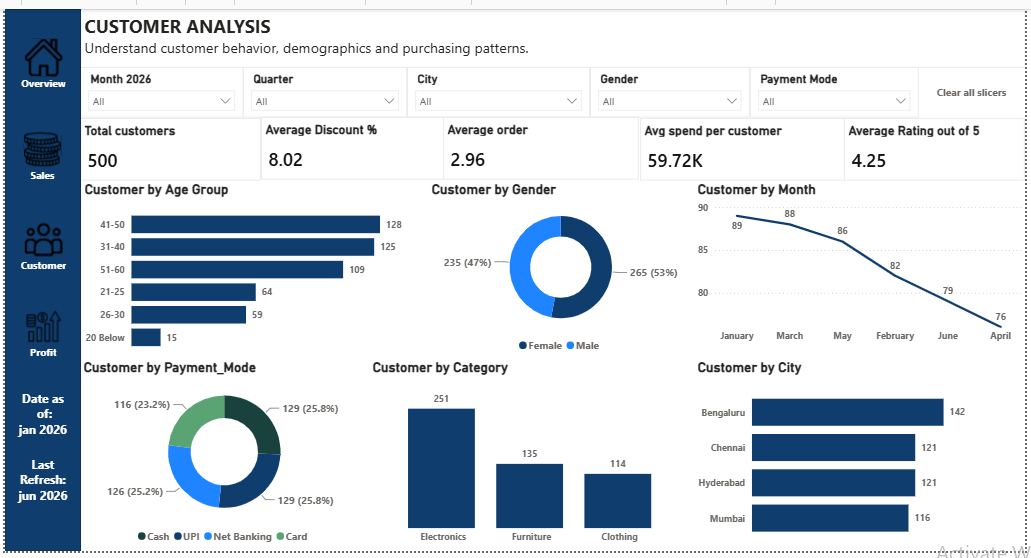

What the dashboard file says about the page in this screenshot:
{"tool":"powerbi","page":{"name":"Customer Analysis","canvas":[1355,720],"ordinal":2},"visuals":[{"type":"shape","box":[0,0,101,720],"z":0,"group":"g1"},{"type":"donutChart","title":"Customer by Gender","fields":{"Category":["SalesData.Gender"],"Y":["SalesData.Total customer"]},"box":[562,228.3,352.7,237.1],"z":0},{"type":"actionButton","box":[0,143.4,99.5,102.4],"z":1000,"group":"g1"},{"type":"clusteredBarChart","title":"Customer by Age Group","fields":{"Y":["SalesData.Total customer"],"Category":["SalesData.Age Group"]},"box":[101,228.3,433.2,237.1],"z":1000},{"type":"actionButton","box":[1.5,379,99.5,103.9],"z":2000,"group":"g1"},{"type":"clusteredBarChart","title":"Customer by City","fields":{"Category":["SalesData.City"],"Y":["SalesData.Total customer"]},"box":[914.6,465.4,440.5,254.6],"z":2000},{"type":"actionButton","box":[1.5,267.8,99.5,93.7],"z":3000,"group":"g1"},{"type":"donutChart","title":"Customer by Payment_Mode","fields":{"Y":["SalesData.Total customer"],"Category":["SalesData.Payment_Mode"]},"box":[99.5,465.4,383.4,254.6],"z":3000},{"type":"actionButton","box":[1.5,19,99.5,108.3],"z":4000,"group":"g1"},{"type":"clusteredColumnChart","title":"Customer by Category","fields":{"Category":["SalesData.Category"],"Y":["SalesData.Total customer"]},"box":[482.9,465.4,431.7,254.6],"z":4000},{"type":"lineChart","title":"Customer by Month","fields":{"Y":["SalesData.Total customer"],"Category":["SalesData.Month"]},"box":[914.6,228.3,440.5,223.9],"z":5000},{"type":"textbox","box":[1.5,500.5,98,87.8],"z":5000,"group":"g1"},{"type":"textbox","box":[99.5,0,1255.6,77.6],"z":6000},{"type":"textbox","box":[1.5,588.3,98,87.8],"z":6000,"group":"g1"},{"type":"slicer","fields":{"Values":["SalesData.Month"]},"box":[99.5,77.6,216.6,67.3],"z":7000},{"type":"slicer","fields":{"Values":["SalesData.Quarter"]},"box":[316.1,77.6,218,67.3],"z":8000},{"type":"slicer","fields":{"Values":["SalesData.City"]},"box":[534.1,77.6,242.9,67.3],"z":9000},{"type":"slicer","fields":{"Values":["SalesData.Gender"]},"box":[777.1,77.6,212.2,67.3],"z":10000},{"type":"slicer","fields":{"Values":["SalesData.Payment_Mode"]},"box":[989.3,77.6,223.9,67.3],"z":11000},{"type":"cardVisual","title":"Total customers","fields":{"Data":["SalesData.Total customer"]},"box":[99.5,144.9,240,83.4],"z":12000},{"type":"cardVisual","title":"Average Discount %","fields":{"Data":["SalesData.Avg discount"]},"box":[339.5,143.4,242.9,83.4],"z":13000},{"type":"cardVisual","title":"Average order","fields":{"Data":["SalesData.Avg Order"]},"box":[582.4,143.4,260.5,83.4],"z":14000},{"type":"cardVisual","title":"Avg spend per customer","fields":{"Data":["SalesData.Avg Spend"]},"box":[842.9,144.9,272.2,83.4],"z":15000},{"type":"cardVisual","title":"Average Rating out of 5","fields":{"Data":["SalesData.Avg Rating"]},"box":[1115.1,144.9,240,83.4],"z":16000},{"type":"actionButton","box":[1213.2,77.6,142,67.3],"z":17000},{"type":"group","id":"g1","title":"Group 1","box":[0,0,101,720],"z":19003}]}

Visuals, with their boxes on the page's 1355x720 design canvas (x1, y1, x2, y2). These are canvas units, not pixel positions in the 1031x558 screenshot, which may show the page scaled, cropped or inside an application window:
shape: <box>0,0,101,720</box>
"Customer by Gender" donutChart: <box>562,228,915,465</box>
actionButton: <box>0,143,100,246</box>
"Customer by Age Group" clusteredBarChart: <box>101,228,534,465</box>
actionButton: <box>2,379,101,483</box>
"Customer by City" clusteredBarChart: <box>915,465,1355,720</box>
actionButton: <box>2,268,101,362</box>
"Customer by Payment_Mode" donutChart: <box>100,465,483,720</box>
actionButton: <box>2,19,101,127</box>
"Customer by Category" clusteredColumnChart: <box>483,465,915,720</box>
"Customer by Month" lineChart: <box>915,228,1355,452</box>
textbox: <box>2,500,100,588</box>
textbox: <box>100,0,1355,78</box>
textbox: <box>2,588,100,676</box>
slicer - SalesData.Month: <box>100,78,316,145</box>
slicer - SalesData.Quarter: <box>316,78,534,145</box>
slicer - SalesData.City: <box>534,78,777,145</box>
slicer - SalesData.Gender: <box>777,78,989,145</box>
slicer - SalesData.Payment_Mode: <box>989,78,1213,145</box>
"Total customers" cardVisual: <box>100,145,340,228</box>
"Average Discount %" cardVisual: <box>340,143,582,227</box>
"Average order" cardVisual: <box>582,143,843,227</box>
"Avg spend per customer" cardVisual: <box>843,145,1115,228</box>
"Average Rating out of 5" cardVisual: <box>1115,145,1355,228</box>
actionButton: <box>1213,78,1355,145</box>
"Group 1" group: <box>0,0,101,720</box>
